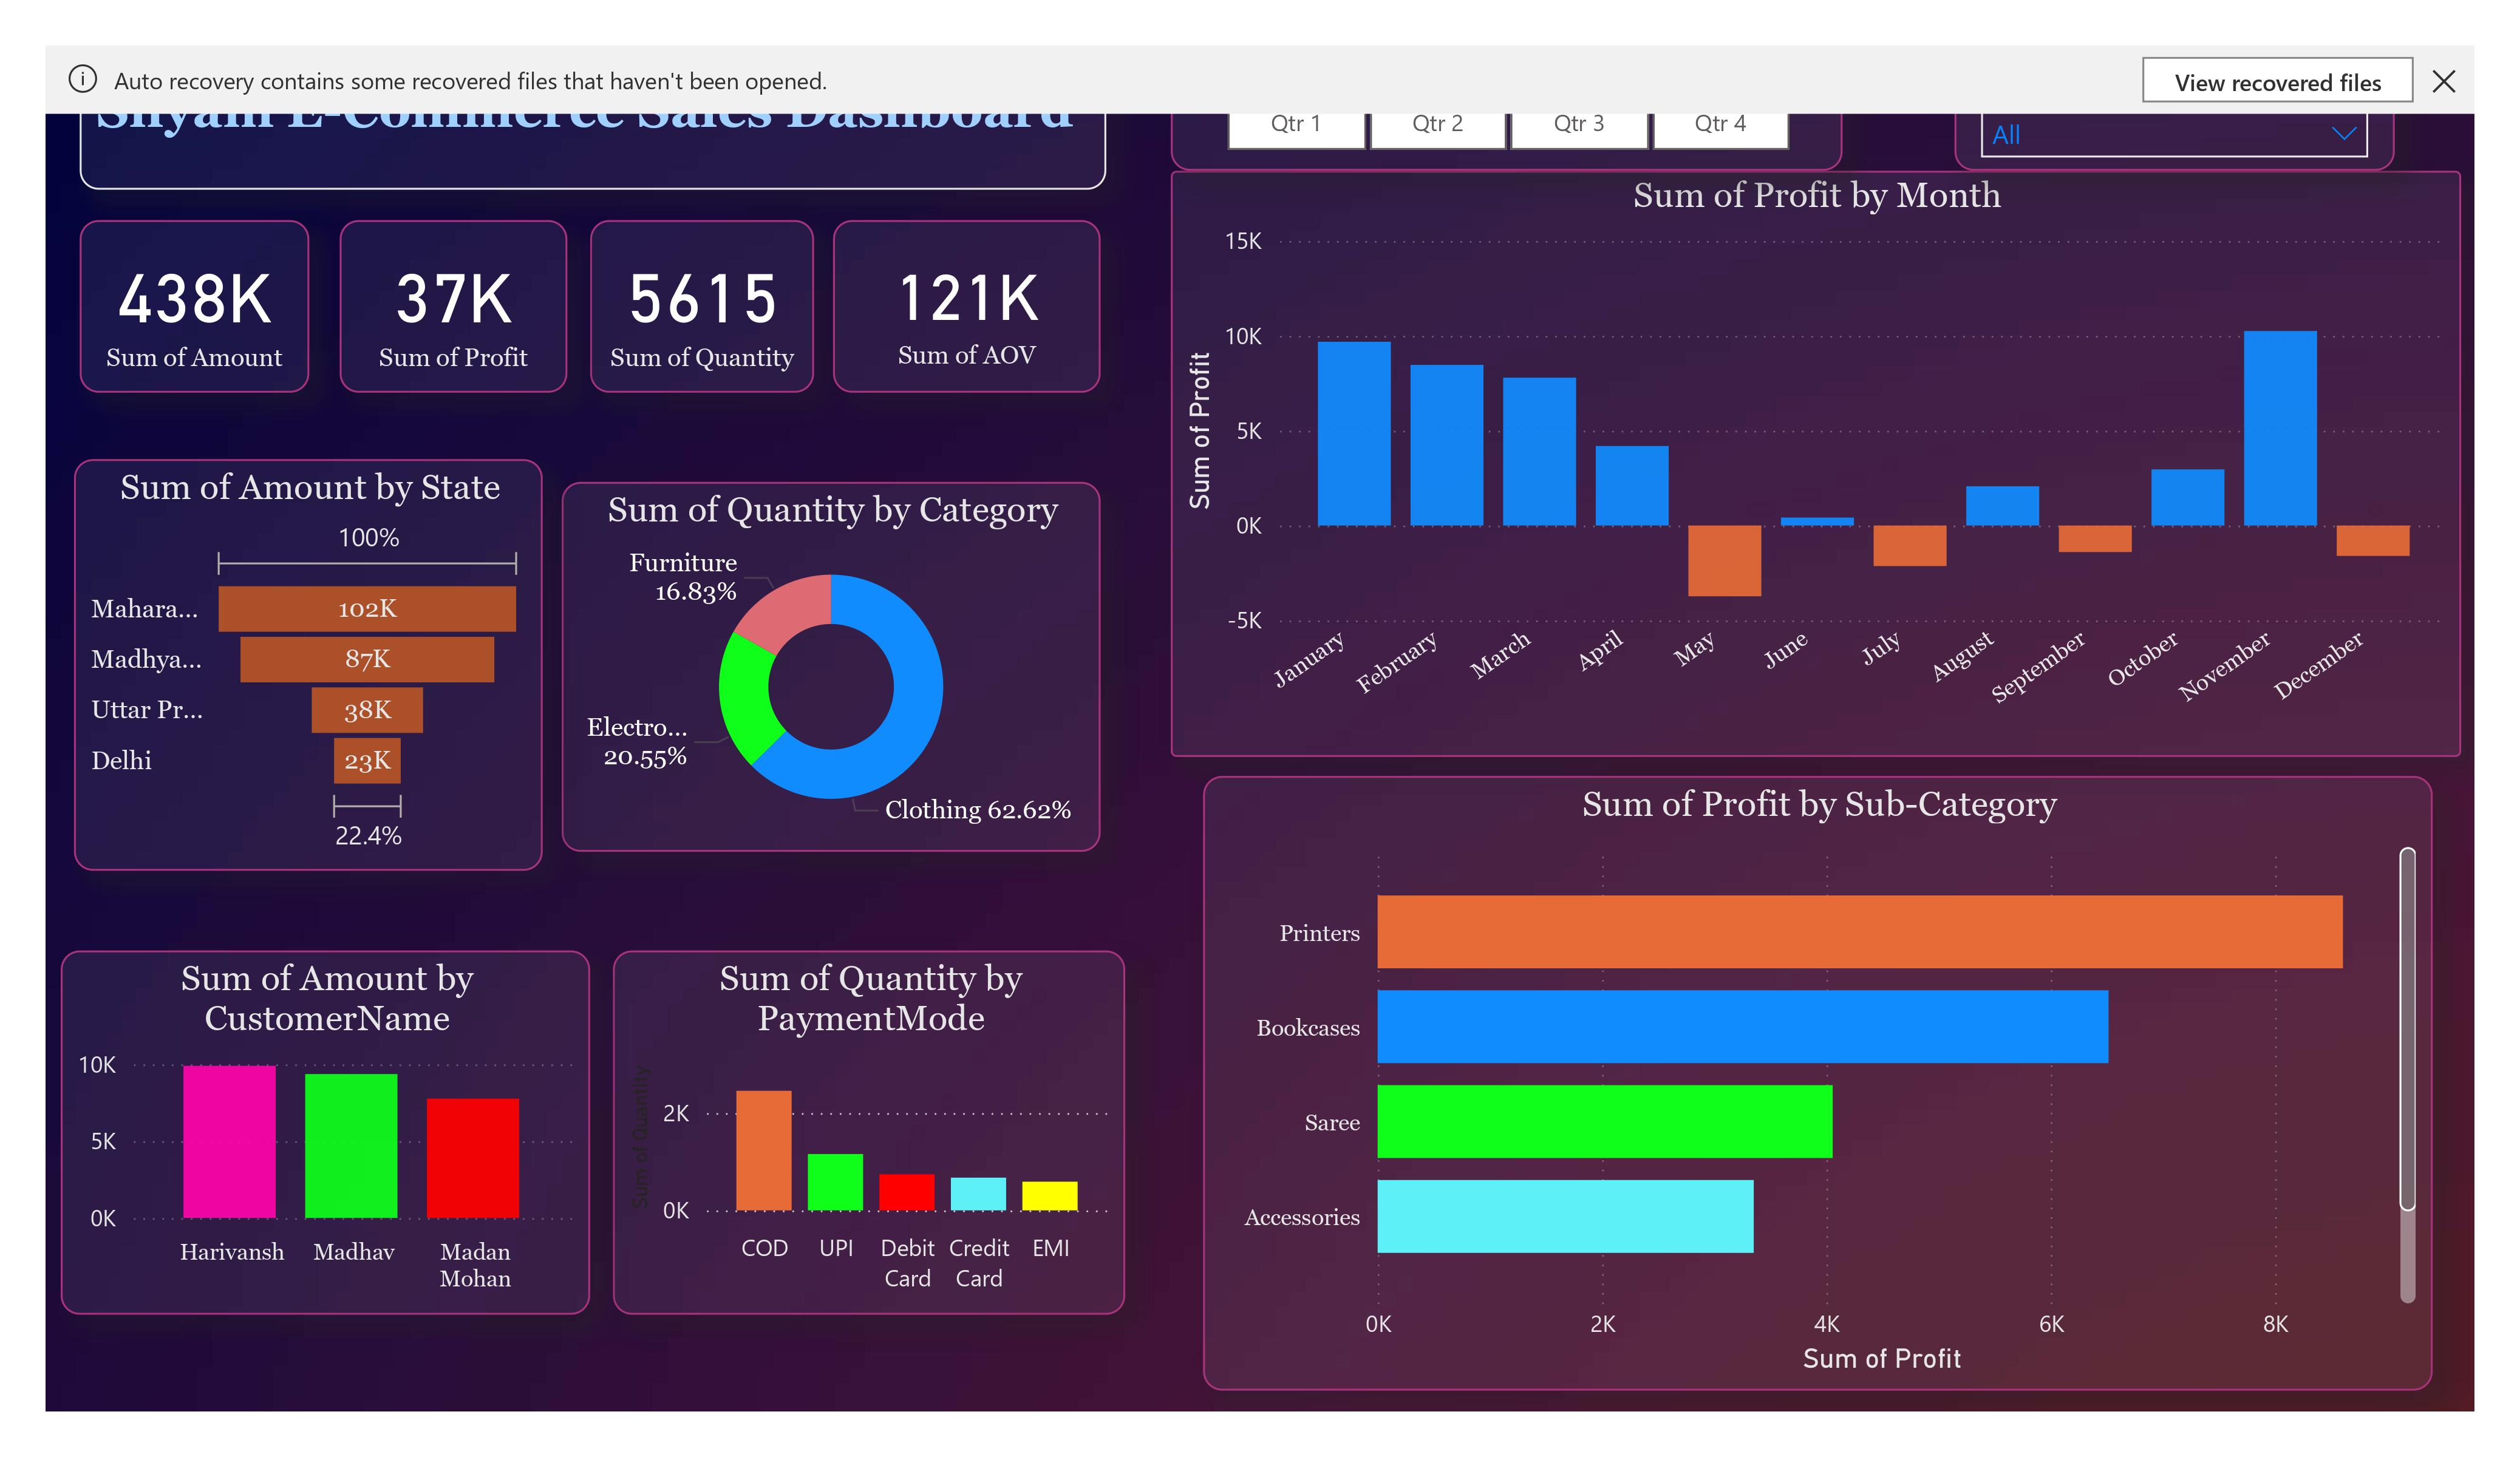

Layout of this report page (visuals, bound fields, positions):
{"tool":"powerbi","page":{"name":"Page 1","canvas":[1280,720],"ordinal":0},"visuals":[{"type":"textbox","box":[18.5,10,540.9,66],"z":0},{"type":"columnChart","fields":{"Y":["Details.Profit"],"Category":["Orders.Order Date.Variation.Date Hierarchy.Month"]},"box":[593,65.5,680.3,309.1],"z":1000},{"type":"barChart","fields":{"Category":["Details.Sub-Category"],"Y":["Details.Profit"]},"box":[609.8,384.7,648.4,324.2],"z":2000},{"type":"donutChart","fields":{"Category":["Details.Category"],"Y":["Details.Quantity"]},"box":[272.1,230.1,283.9,194.9],"z":3000},{"type":"columnChart","fields":{"Category":["Details.PaymentMode"],"Y":["Details.Quantity"]},"box":[299,477.1,270.4,191.5],"z":3001},{"type":"card","fields":{"Values":["Details.Amount"]},"box":[18.5,92.4,120.9,90.7],"z":3002},{"type":"card","fields":{"Values":["Details.Quantity"]},"box":[287.2,92.4,117.6,90.7],"z":3003},{"type":"card","fields":{"Values":["Details.Profit"]},"box":[154.5,92.4,120.9,90.7],"z":3004},{"type":"card","fields":{"Values":["Details.AOV"]},"box":[414.9,92.4,141.1,90.7],"z":3005},{"type":"funnel","fields":{"Category":["Orders.State"],"Y":["Details.Amount"]},"box":[15.1,218.4,246.9,216.7],"z":3006},{"type":"columnChart","fields":{"Category":["Orders.CustomerName"],"Y":["Details.Amount"]},"box":[8.4,477.1,278.8,191.5],"z":3007},{"type":"slicer","fields":{"Values":["Orders.Order Date.Variation.Date Hierarchy.Quarter"]},"box":[593,0,354.4,65.5],"z":3008},{"type":"slicer","fields":{"Values":["Orders.State"]},"box":[1006.2,0,231.8,65.5],"z":3009}]}

Visuals, with their boxes on the page's 1280x720 design canvas (x1, y1, x2, y2). These are canvas units, not pixel positions in the 2520x1457 screenshot, which may show the page scaled, cropped or inside an application window:
textbox: l=18, t=10, r=559, b=76
columnChart - Details.Profit x Orders.Order Date.Variation.Date Hierarchy.Month: l=593, t=66, r=1273, b=375
barChart - Details.Sub-Category x Details.Profit: l=610, t=385, r=1258, b=709
donutChart - Details.Category x Details.Quantity: l=272, t=230, r=556, b=425
columnChart - Details.PaymentMode x Details.Quantity: l=299, t=477, r=569, b=669
card - Details.Amount: l=18, t=92, r=139, b=183
card - Details.Quantity: l=287, t=92, r=405, b=183
card - Details.Profit: l=154, t=92, r=275, b=183
card - Details.AOV: l=415, t=92, r=556, b=183
funnel - Orders.State x Details.Amount: l=15, t=218, r=262, b=435
columnChart - Orders.CustomerName x Details.Amount: l=8, t=477, r=287, b=669
slicer - Orders.Order Date.Variation.Date Hierarchy.Quarter: l=593, t=0, r=947, b=66
slicer - Orders.State: l=1006, t=0, r=1238, b=66
